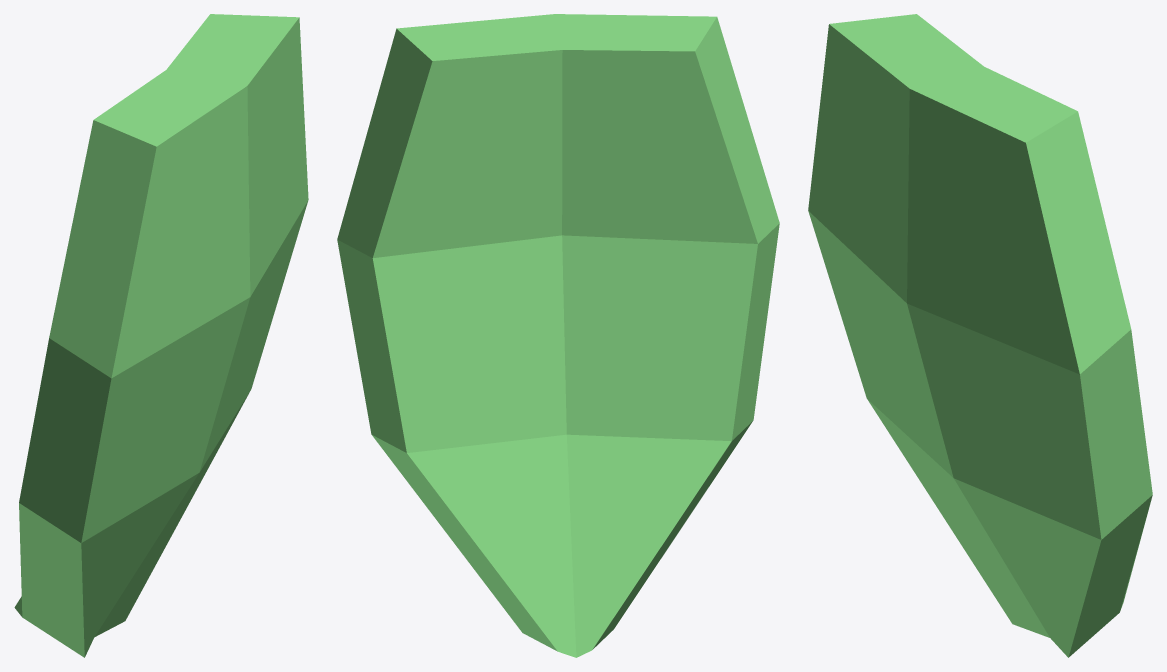
The model's file is Leaf.fbx.
The picture shows the model from 3 angles, left to right: view 1: azimuth 30°, elevation 25°; view 2: azimuth 150°, elevation 25°; view 3: azimuth 270°, elevation 25°; orthographic projection. The views are drawn at different scales.
Visible parts, largest first — view 1: VegetableFarm.001; view 2: VegetableFarm.001; view 3: VegetableFarm.001.
Part boxes in pixels (x1,y1,x2,y2): VegetableFarm.001: (14, 14, 308, 657); VegetableFarm.001: (337, 14, 779, 657); VegetableFarm.001: (808, 14, 1152, 657).
Size of the model in its own units: 0.305 by 0.4817 by 0.2546.
